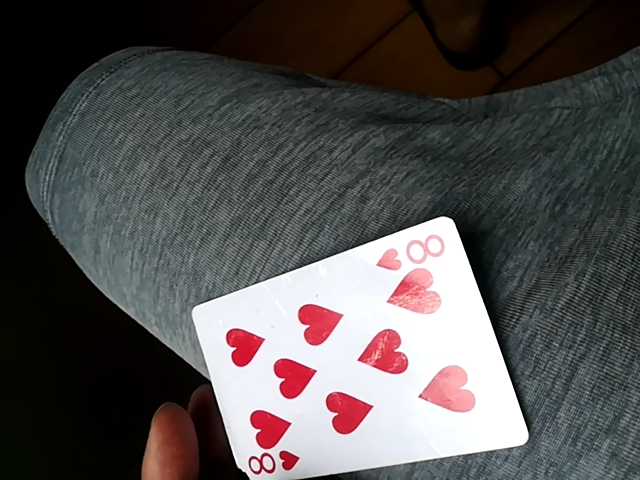hx 8: (195, 214, 529, 476)
